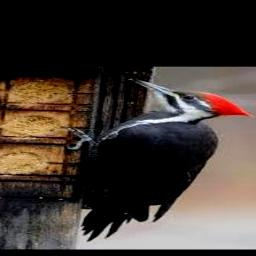Woodpecker: (64, 78, 254, 241)
